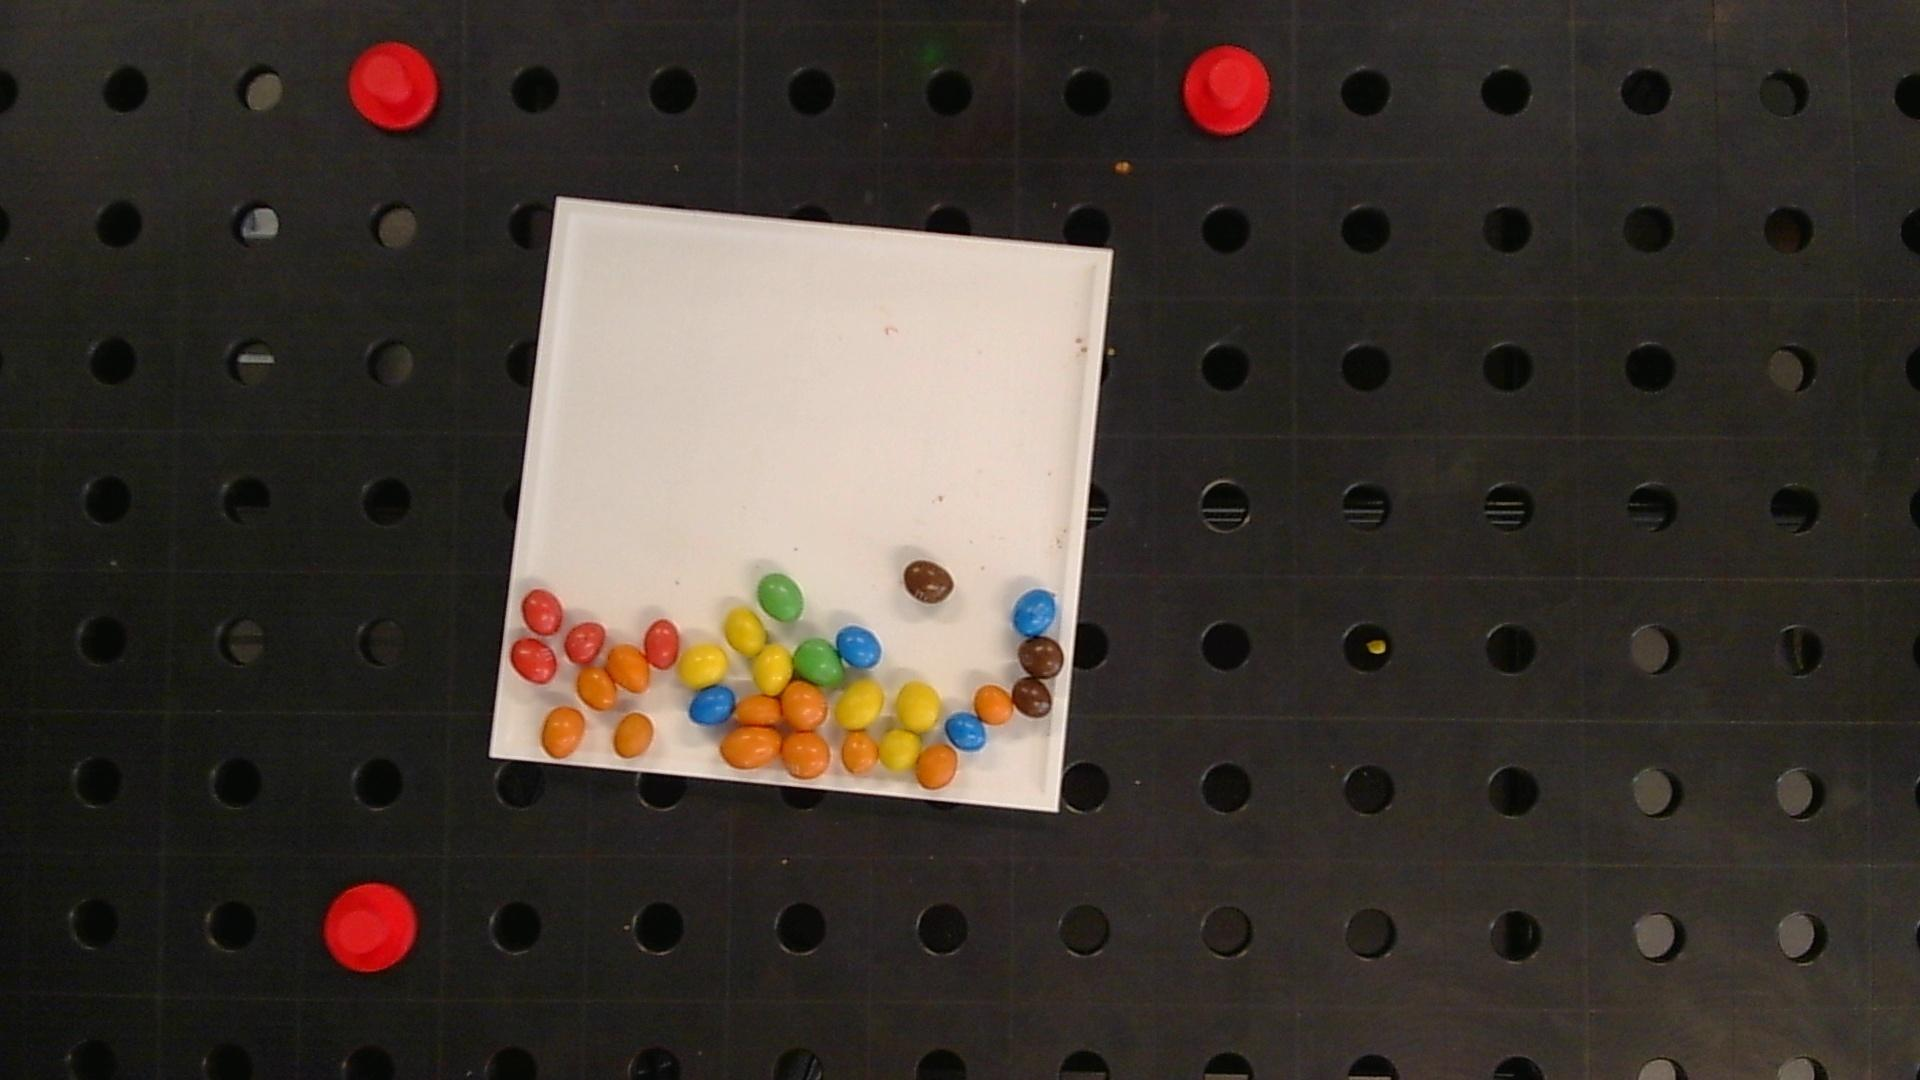blue: (1014, 589, 1056, 637), (836, 626, 882, 669), (690, 686, 736, 725), (945, 713, 986, 750)
brown: (903, 559, 955, 604), (1019, 638, 1064, 679), (1011, 679, 1054, 717)
green: (794, 638, 844, 686), (758, 572, 804, 621)
orange: (720, 727, 782, 769), (782, 732, 831, 778), (542, 707, 584, 757), (782, 683, 827, 729), (607, 645, 650, 692), (613, 712, 654, 757), (916, 745, 957, 789), (578, 667, 616, 711), (975, 684, 1014, 724), (841, 732, 878, 774), (737, 695, 781, 725)
red: (510, 638, 556, 684), (521, 589, 563, 634), (644, 618, 679, 669), (564, 621, 605, 663)
yellow: (836, 680, 884, 729), (895, 682, 942, 732), (679, 644, 727, 687), (753, 645, 793, 694), (725, 608, 766, 654), (880, 729, 920, 769)
